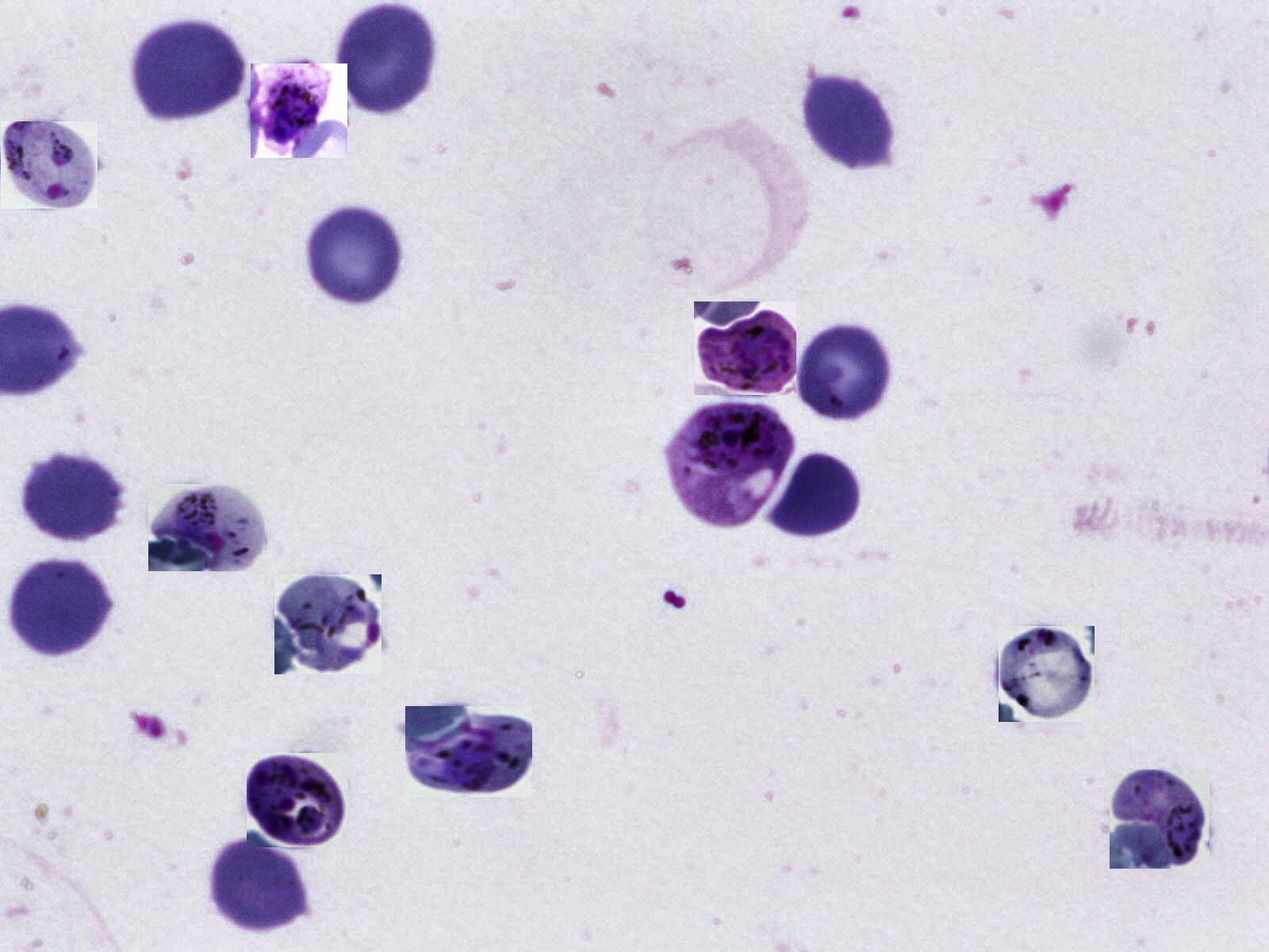Infected: (666, 405, 795, 525), (405, 706, 532, 797), (274, 574, 381, 674), (148, 484, 265, 571), (1110, 770, 1210, 869), (694, 301, 796, 395), (247, 753, 348, 847), (999, 626, 1095, 722), (251, 63, 347, 158), (1, 121, 98, 209)
Uninfected: (132, 20, 245, 119), (339, 6, 435, 114), (205, 839, 310, 933), (12, 562, 110, 661), (308, 205, 401, 303), (804, 72, 892, 172), (801, 323, 891, 420), (25, 450, 121, 538), (772, 451, 861, 539)
